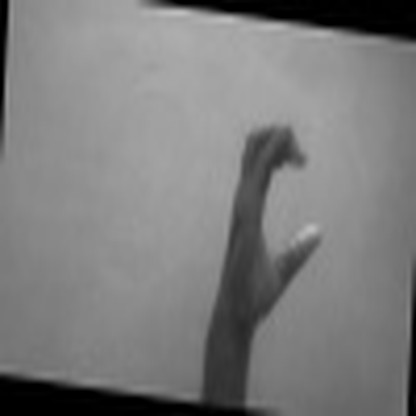c: (211, 109, 332, 304)
